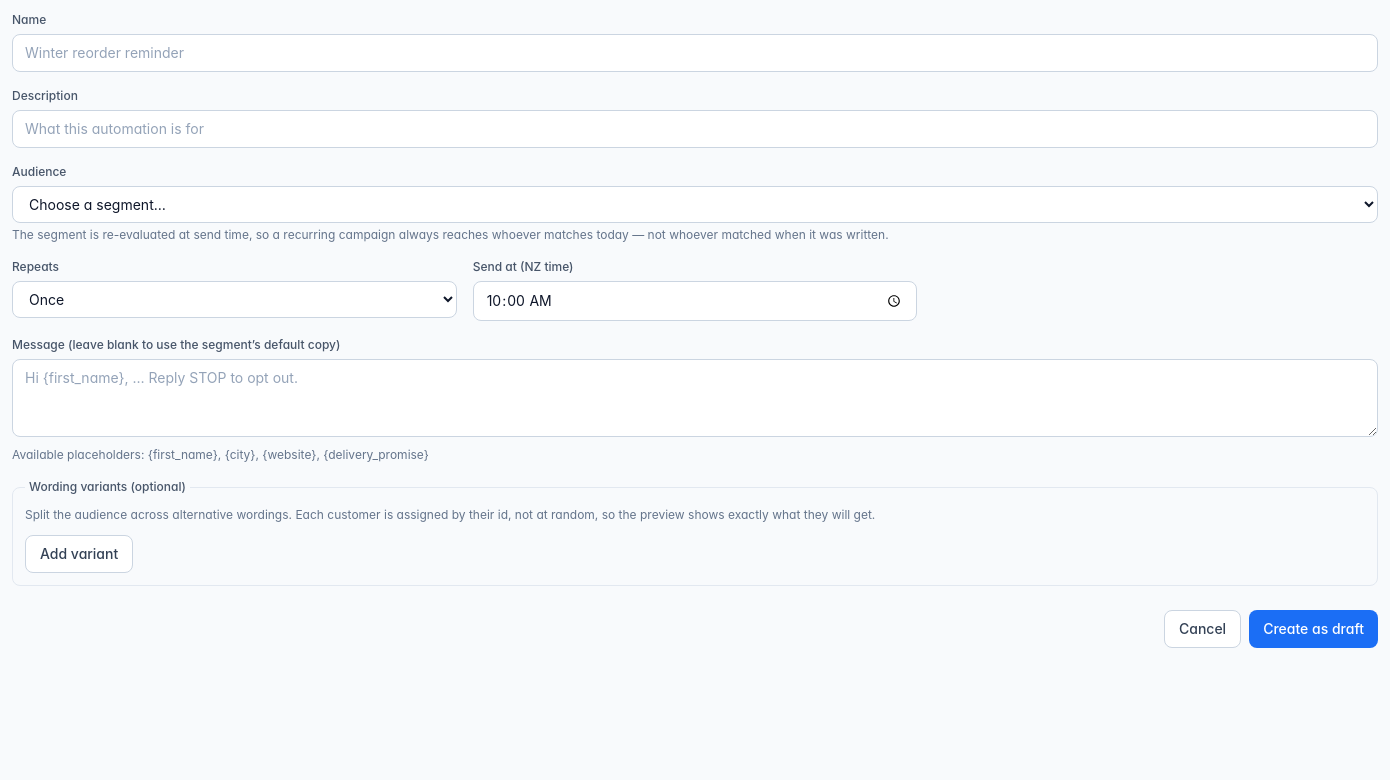
AutomationForm › surfaces a rejected create instead of pretending it worked
Step 1. Type "Winter reorder" into the field labelled "Name" → (695, 53), box [12,34,1378,72]
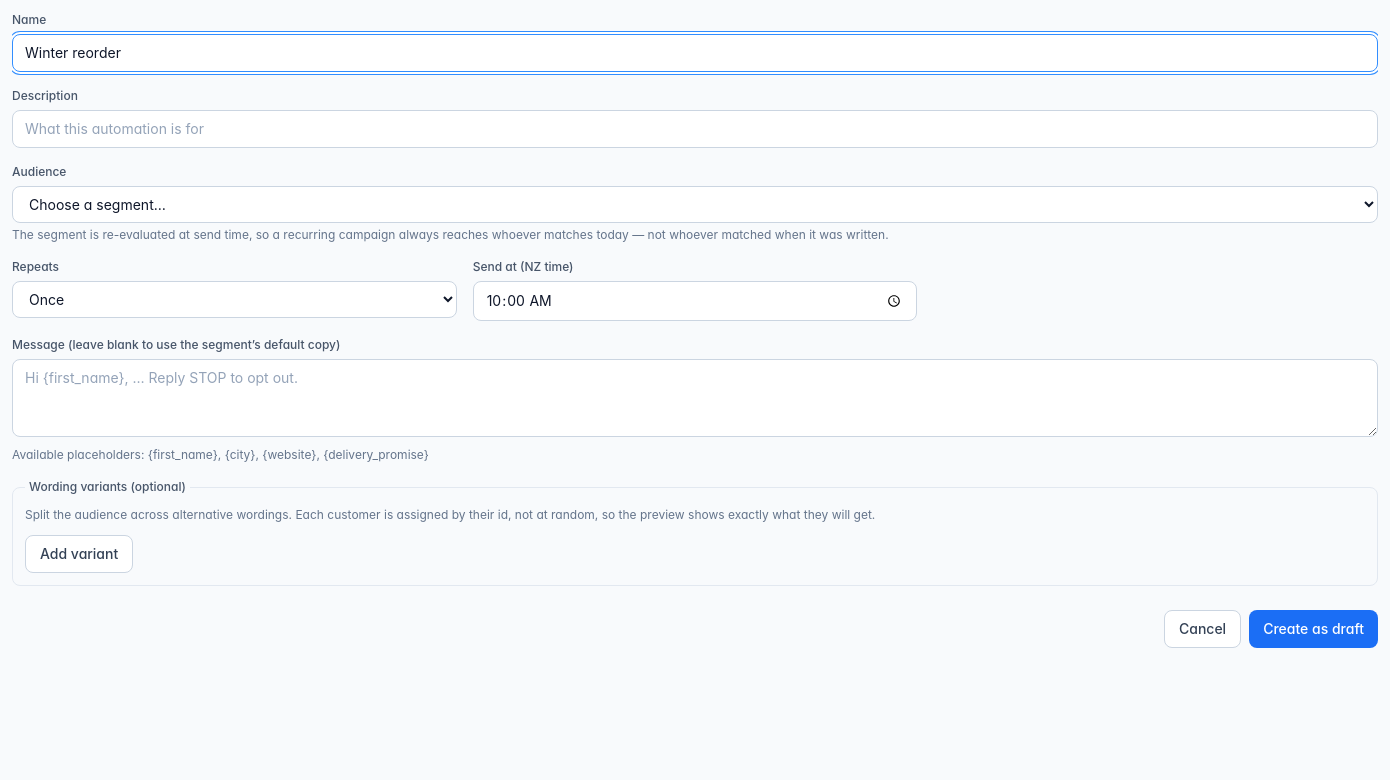
Step 2. Select "At Risk (41 members)" in the dropdown labelled "Audience" → (695, 204), box [12,186,1378,223]
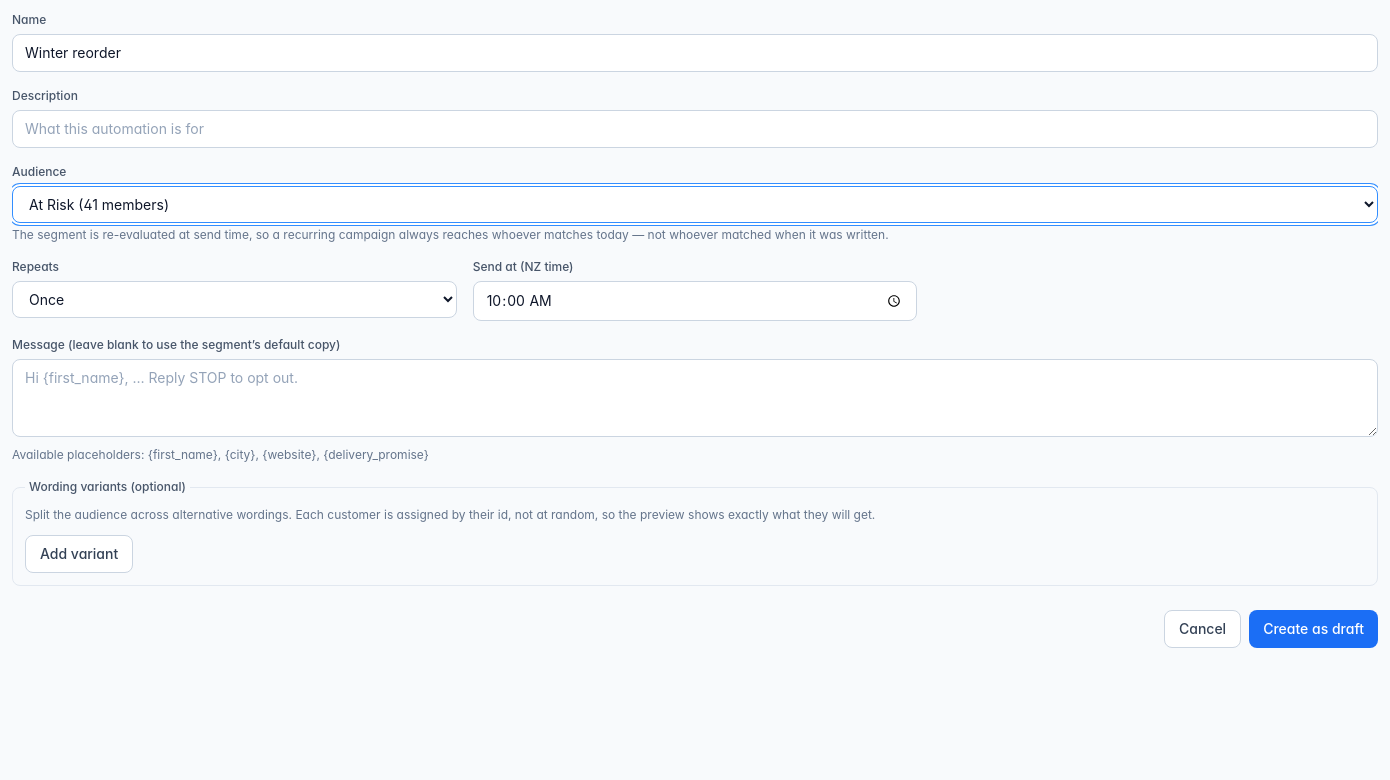
Step 3. Click the button "Create as draft" → (1314, 629), box [1249,610,1378,648]
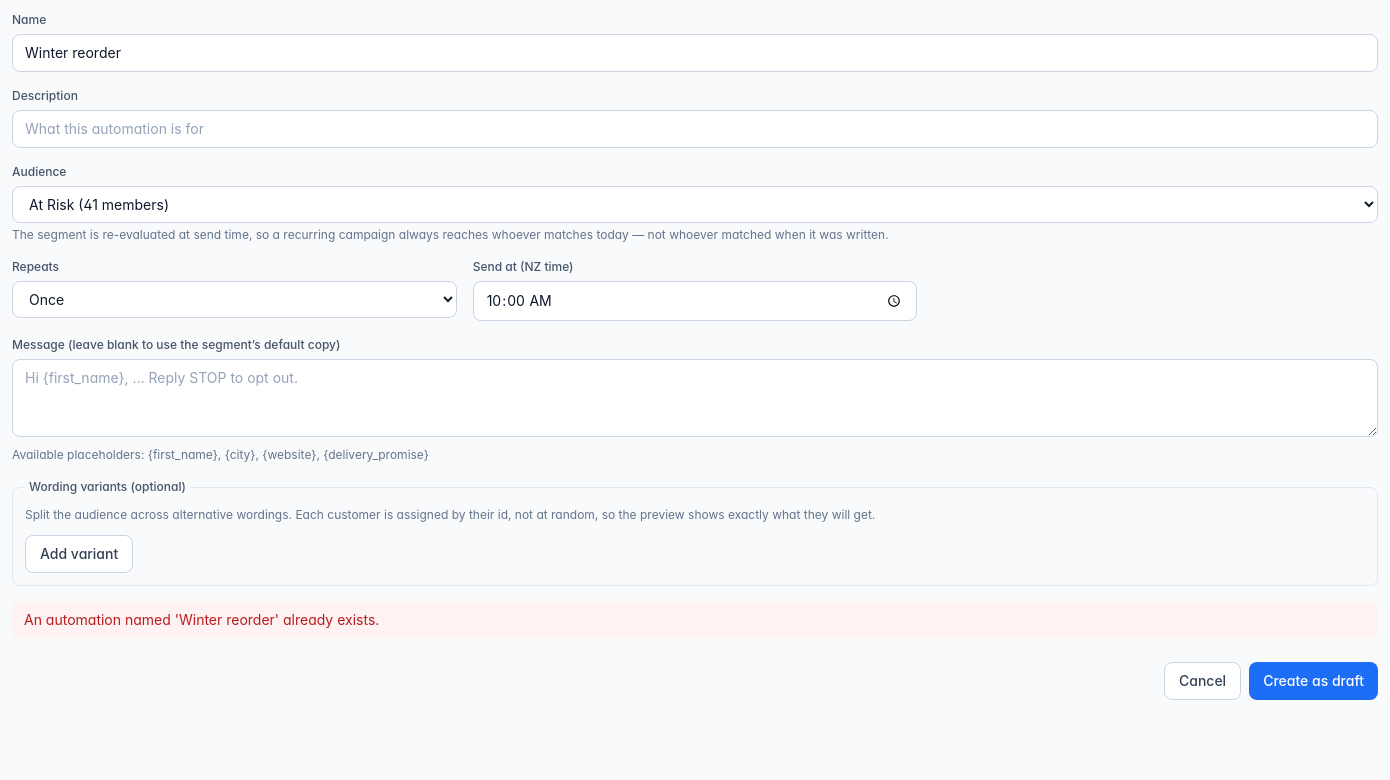
Result: the message shows "already exists" at [24,611,379,628]
